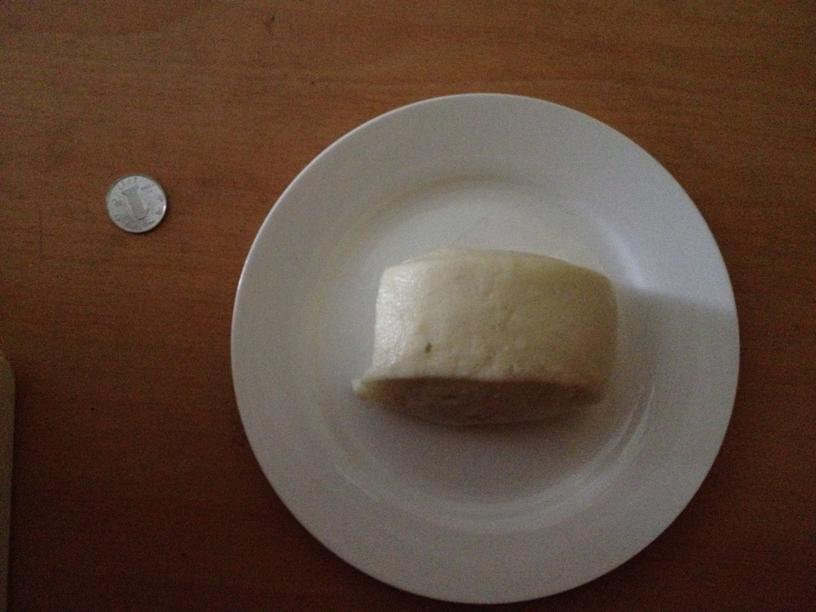bun: (358, 247, 616, 414)
coin: (106, 175, 168, 234)
